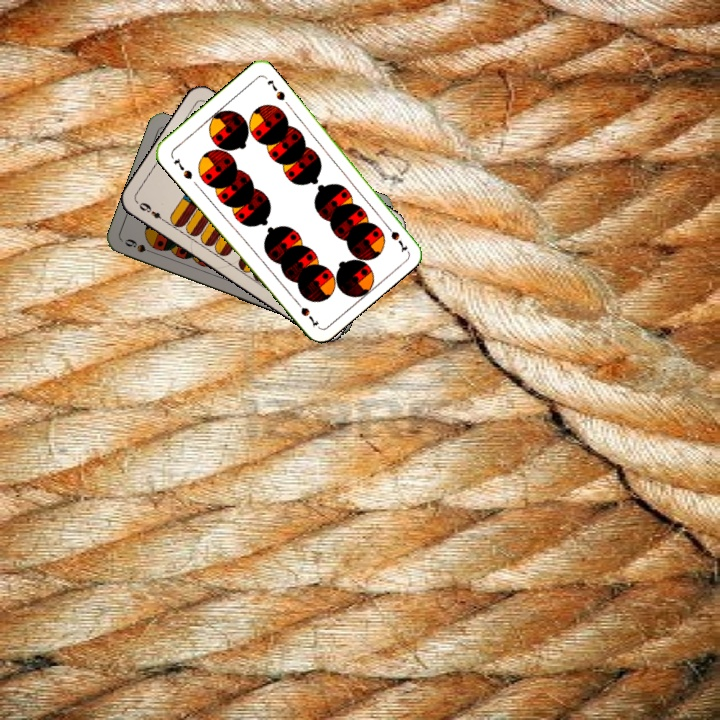E9: (135, 198, 169, 226)
S7: (380, 218, 410, 254), (169, 154, 195, 182)
S9: (121, 235, 159, 257)
